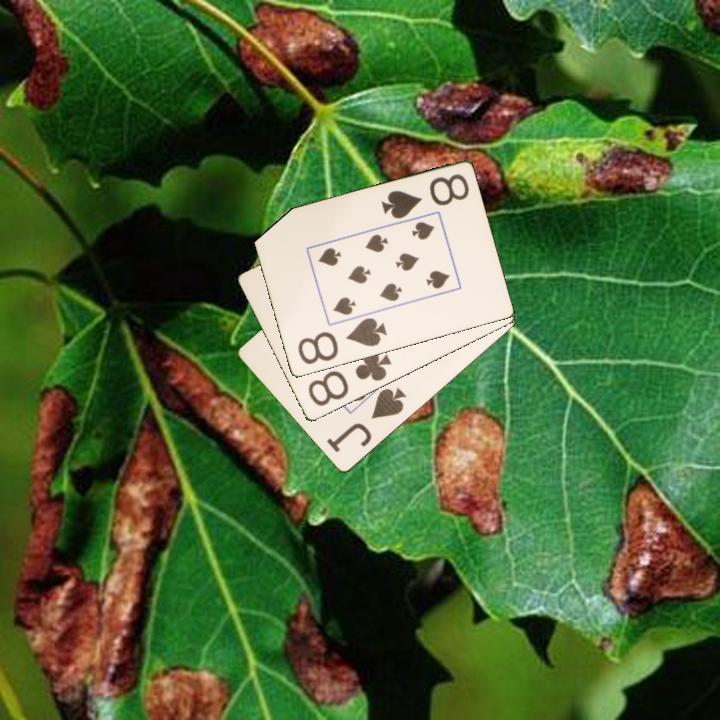8c: (304, 347, 395, 410)
8s: (294, 314, 389, 368), (377, 170, 472, 222)
Js: (323, 384, 409, 456)
